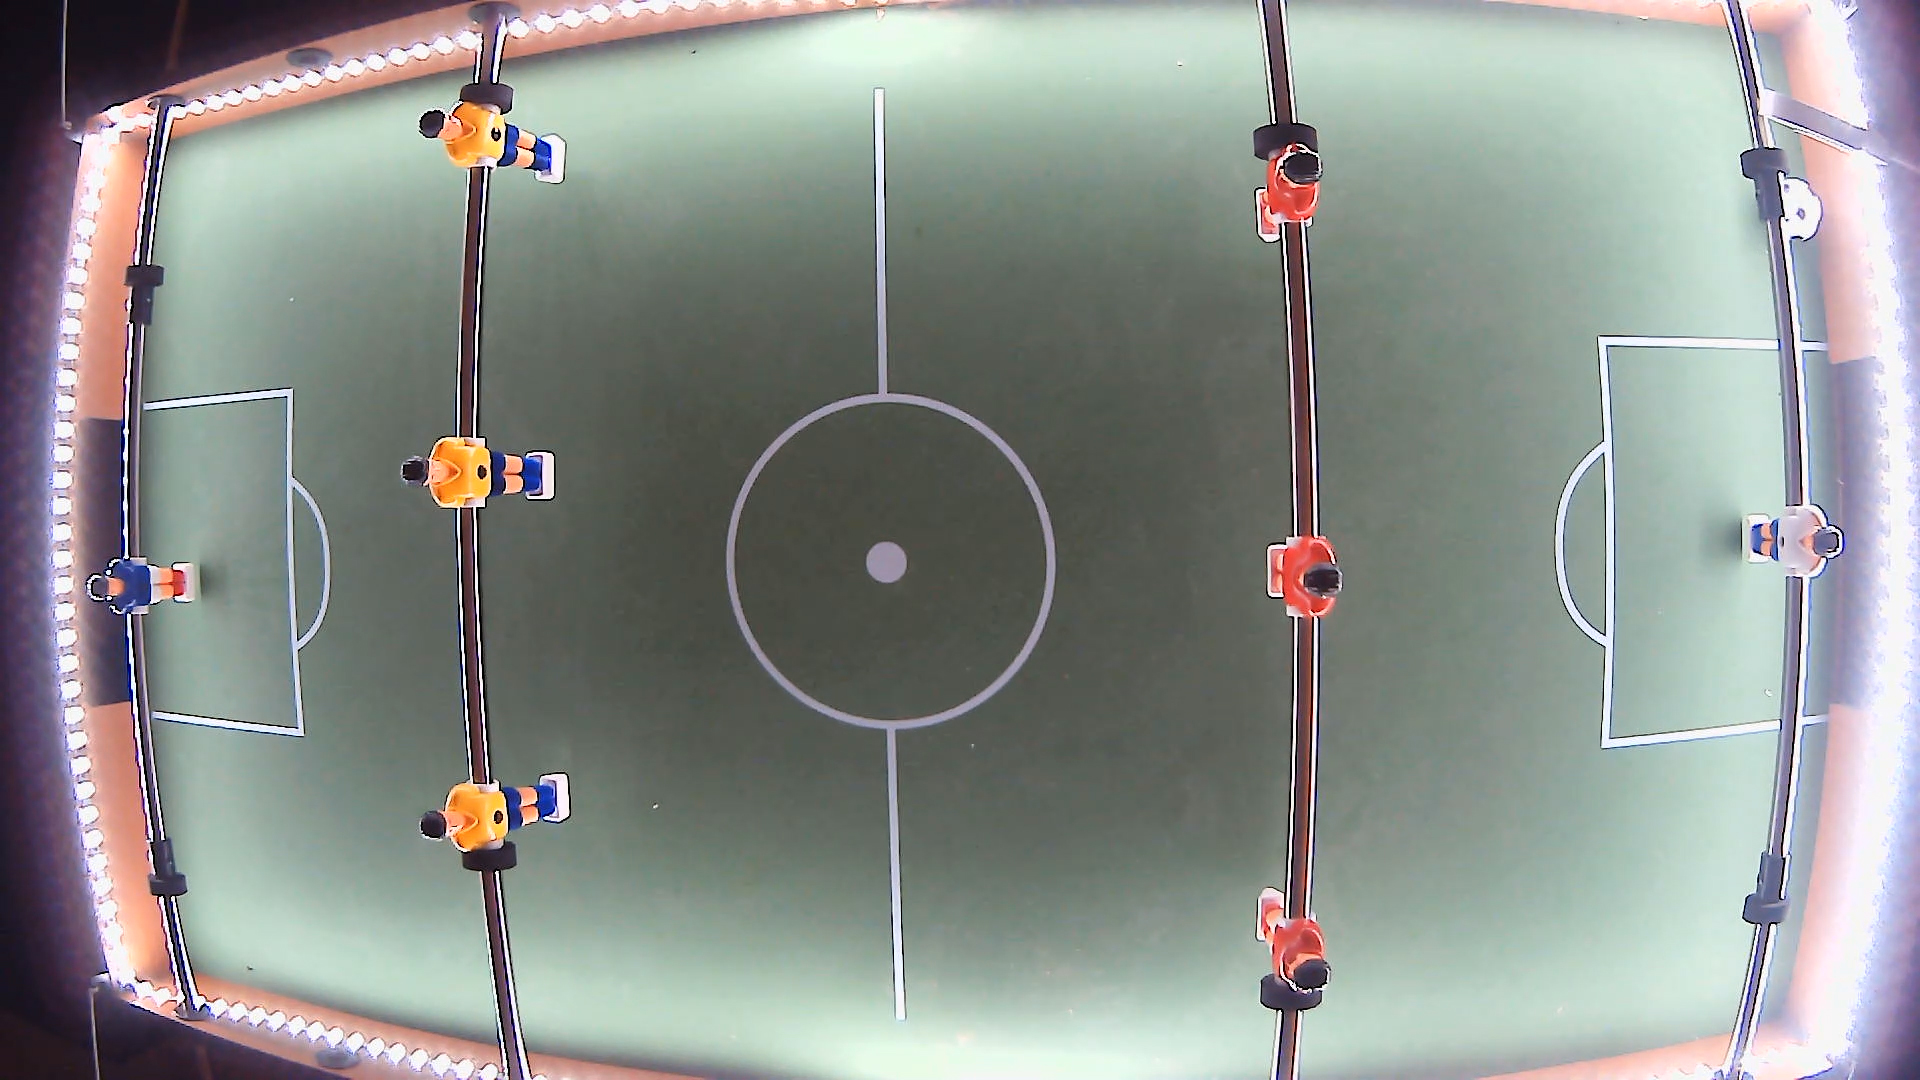Foosball: (1766, 177, 1822, 243)
